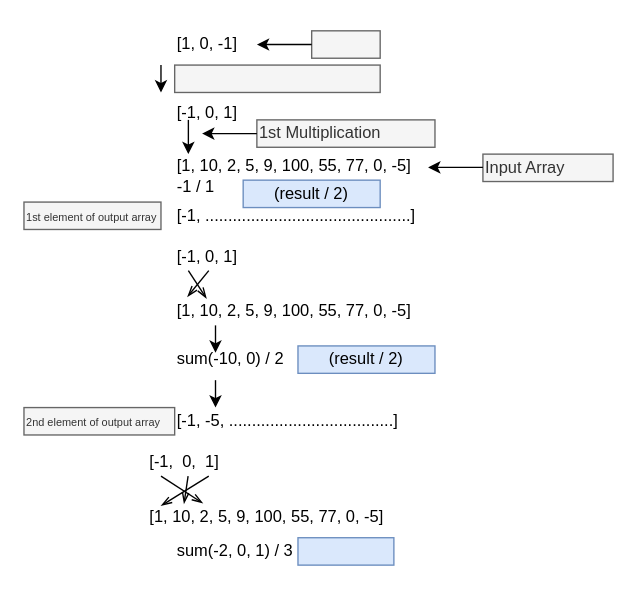
Image size: 637x589. Some labels were removed from this diagram. Each missing label, with the box of its shape:
(result / 3): (297, 536, 394, 565)
Inverted or may not: (173, 64, 380, 92)
Kernel: (310, 29, 380, 58)
